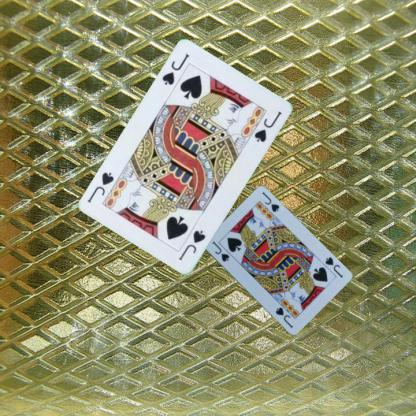Js: (175, 228, 207, 262), (160, 51, 190, 86), (322, 254, 344, 279), (209, 239, 231, 263)
